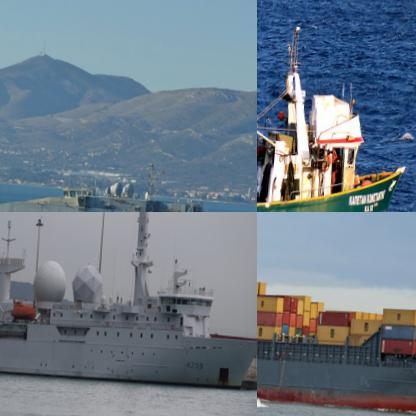Fishing Boat: (257, 7, 415, 211)
Merchant Ship: (257, 216, 415, 415)
Military Ship: (0, 212, 256, 391), (0, 151, 256, 211)
